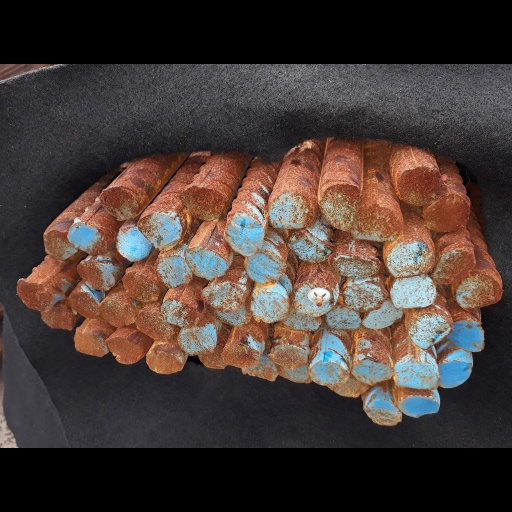dipstick: (386, 240, 432, 276), (393, 354, 439, 390), (354, 206, 401, 241), (426, 195, 469, 232), (139, 213, 182, 249), (400, 168, 444, 203), (323, 185, 355, 230), (251, 284, 287, 324), (270, 195, 313, 228), (456, 275, 500, 307), (410, 314, 451, 348), (182, 186, 223, 220), (392, 276, 435, 308), (68, 220, 107, 254), (289, 229, 330, 261), (99, 186, 140, 218), (344, 281, 387, 311), (433, 250, 472, 283), (187, 247, 226, 279), (227, 220, 263, 254), (116, 227, 152, 260), (440, 350, 472, 387), (202, 283, 244, 311), (366, 393, 401, 425), (293, 284, 329, 315), (77, 261, 115, 290), (332, 255, 380, 277), (179, 326, 215, 355), (17, 280, 50, 311), (124, 272, 159, 301), (107, 337, 143, 365), (73, 328, 109, 356), (245, 255, 281, 283), (353, 359, 393, 384), (157, 256, 189, 287), (453, 320, 483, 352), (135, 311, 170, 338), (43, 230, 75, 259), (162, 300, 197, 326), (68, 291, 100, 319), (101, 300, 135, 326), (400, 395, 439, 417), (144, 350, 181, 373), (362, 307, 402, 328), (311, 363, 348, 384), (222, 345, 258, 366), (272, 345, 306, 366), (42, 306, 73, 329), (329, 310, 360, 330), (279, 367, 310, 385), (287, 314, 319, 331), (329, 385, 368, 397), (242, 368, 276, 381), (197, 356, 222, 369)
